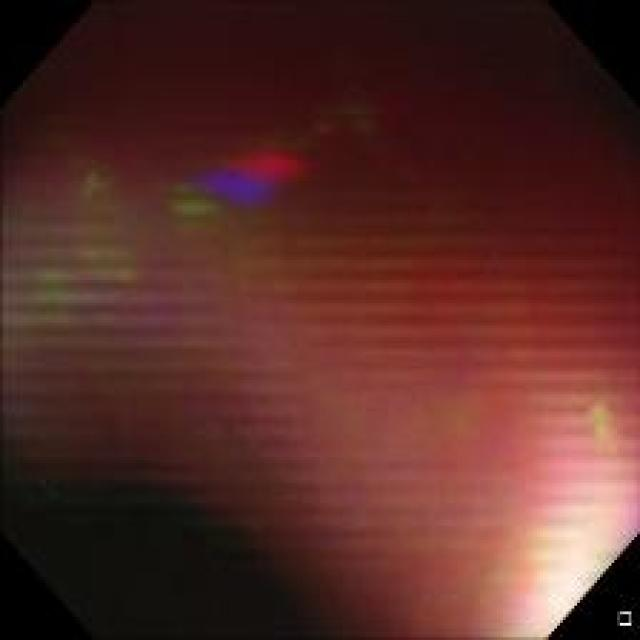color misalignment: (181, 136, 318, 201), (74, 166, 142, 291), (22, 248, 71, 334), (581, 392, 628, 461)
contrast: (10, 449, 346, 635), (318, 15, 620, 204)
